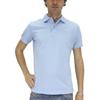abbigliamento_uomo: (18, 14, 83, 91)
